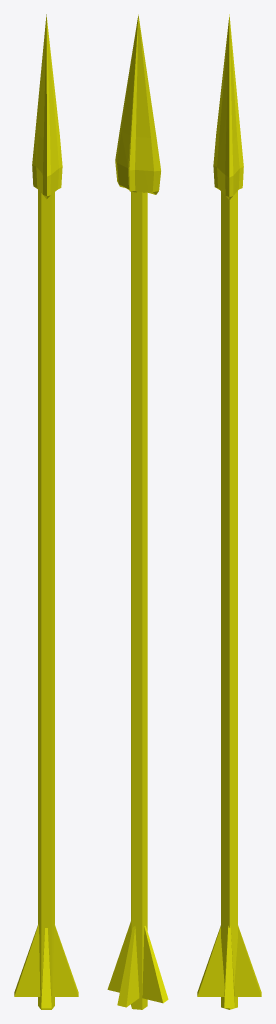
Rendered from _arrow_b_5.glb.
3 renders of one model, left to right at view 1: azimuth 90°, elevation 25°; view 2: azimuth 150°, elevation 25°; view 3: azimuth 270°, elevation 25°, orthographic.
Parts seen in each view (by area): view 1: arrow_b_5; view 2: arrow_b_5; view 3: arrow_b_5.
Boxes of the visible parts, bbox=[...] form: arrow_b_5: bbox=[14, 14, 78, 1009]; arrow_b_5: bbox=[107, 14, 168, 1009]; arrow_b_5: bbox=[197, 14, 261, 1009].
Size of the model in its own units: 1244 by 21139 by 1244.
